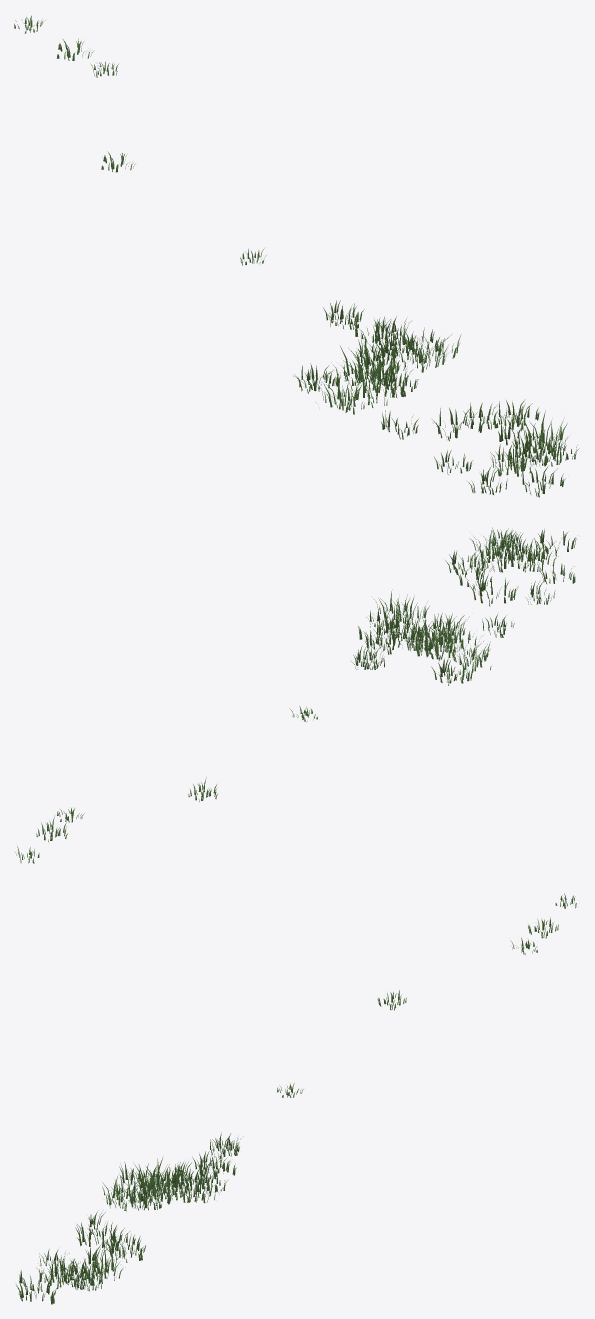
Rendered from P2N_forest_grass_-7_6.glb.
3 renders of one model, top to bottom at view 1: azimuth 30°, elevation 25°; view 2: azimuth 150°, elevation 25°; view 3: azimuth 330°, elevation 25°, orthographic. The views are drawn at different scales.
Visible parts, largest first — view 1: P2N_forest_grass_-7_6; view 2: P2N_forest_grass_-7_6; view 3: P2N_forest_grass_-7_6.
Part boxes in pixels (left/top/right/bottom): P2N_forest_grass_-7_6: left=14, top=15, right=579, bottom=497; P2N_forest_grass_-7_6: left=15, top=527, right=576, bottom=863; P2N_forest_grass_-7_6: left=16, top=893, right=576, bottom=1304.
Bounding box in the file's own units: 4.16 × 1.84 × 27.73.
